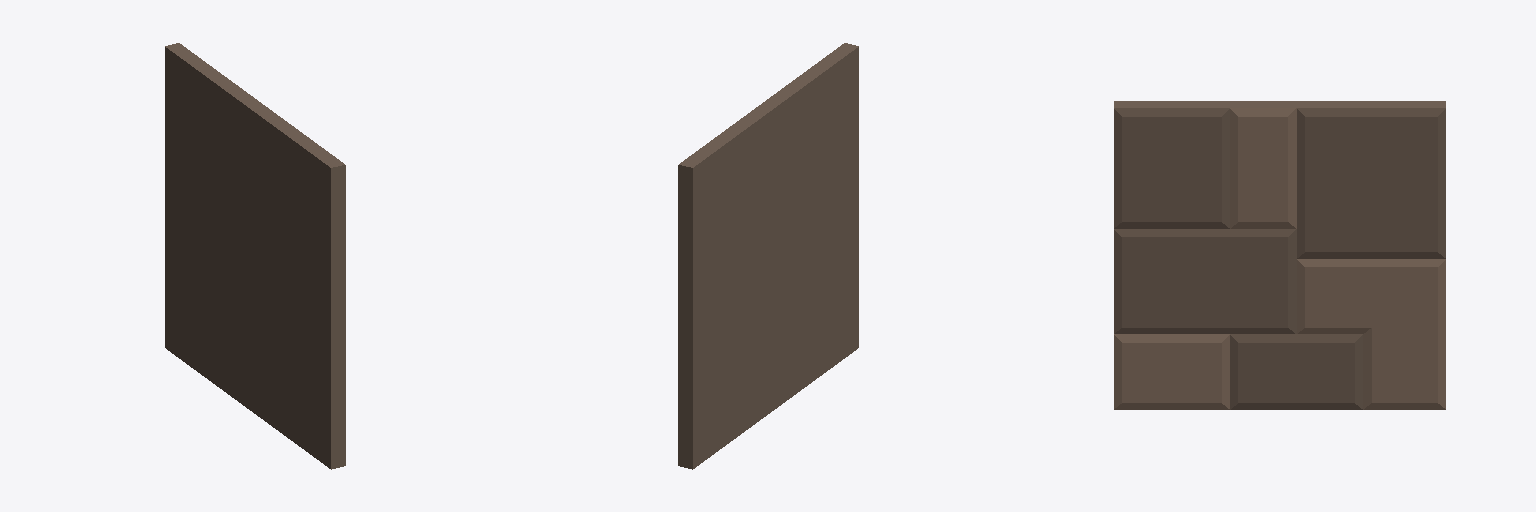
The model's file is Stone_Wall_1.obj.
3 views of the same model, side by side, from view 1: azimuth 30°, elevation 25°; view 2: azimuth 150°, elevation 25°; view 3: azimuth 270°, elevation 25° (orthographic).
Parts seen in each view (by area): view 1: object1; view 2: object1; view 3: object1.
Boxes of the visible parts, x1=… form: object1: x1=165, y1=43, x2=345, y2=469; object1: x1=678, y1=43, x2=858, y2=469; object1: x1=1114, y1=101, x2=1445, y2=409.
Bounding box in the file's own units: 0.0563 × 1 × 1.